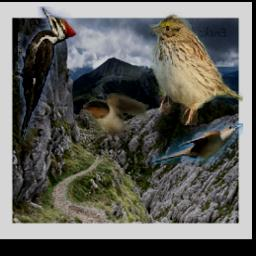Cuckoo: (150, 123, 243, 164)
Sparrow: (148, 12, 243, 125)
Swallow: (82, 94, 148, 137)
Woodpecker: (18, 6, 77, 147)
